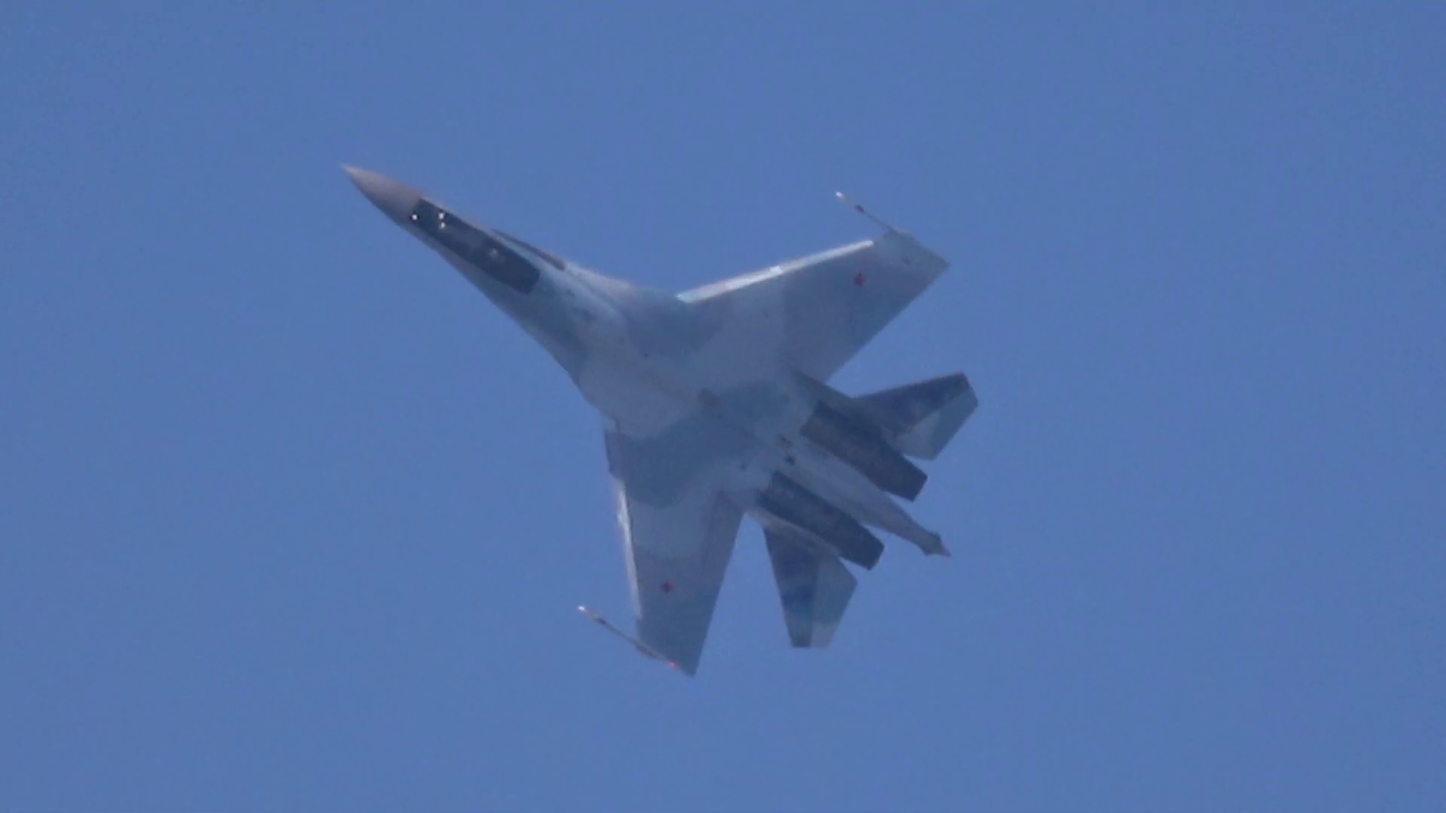Su35: (341, 164, 979, 676)
